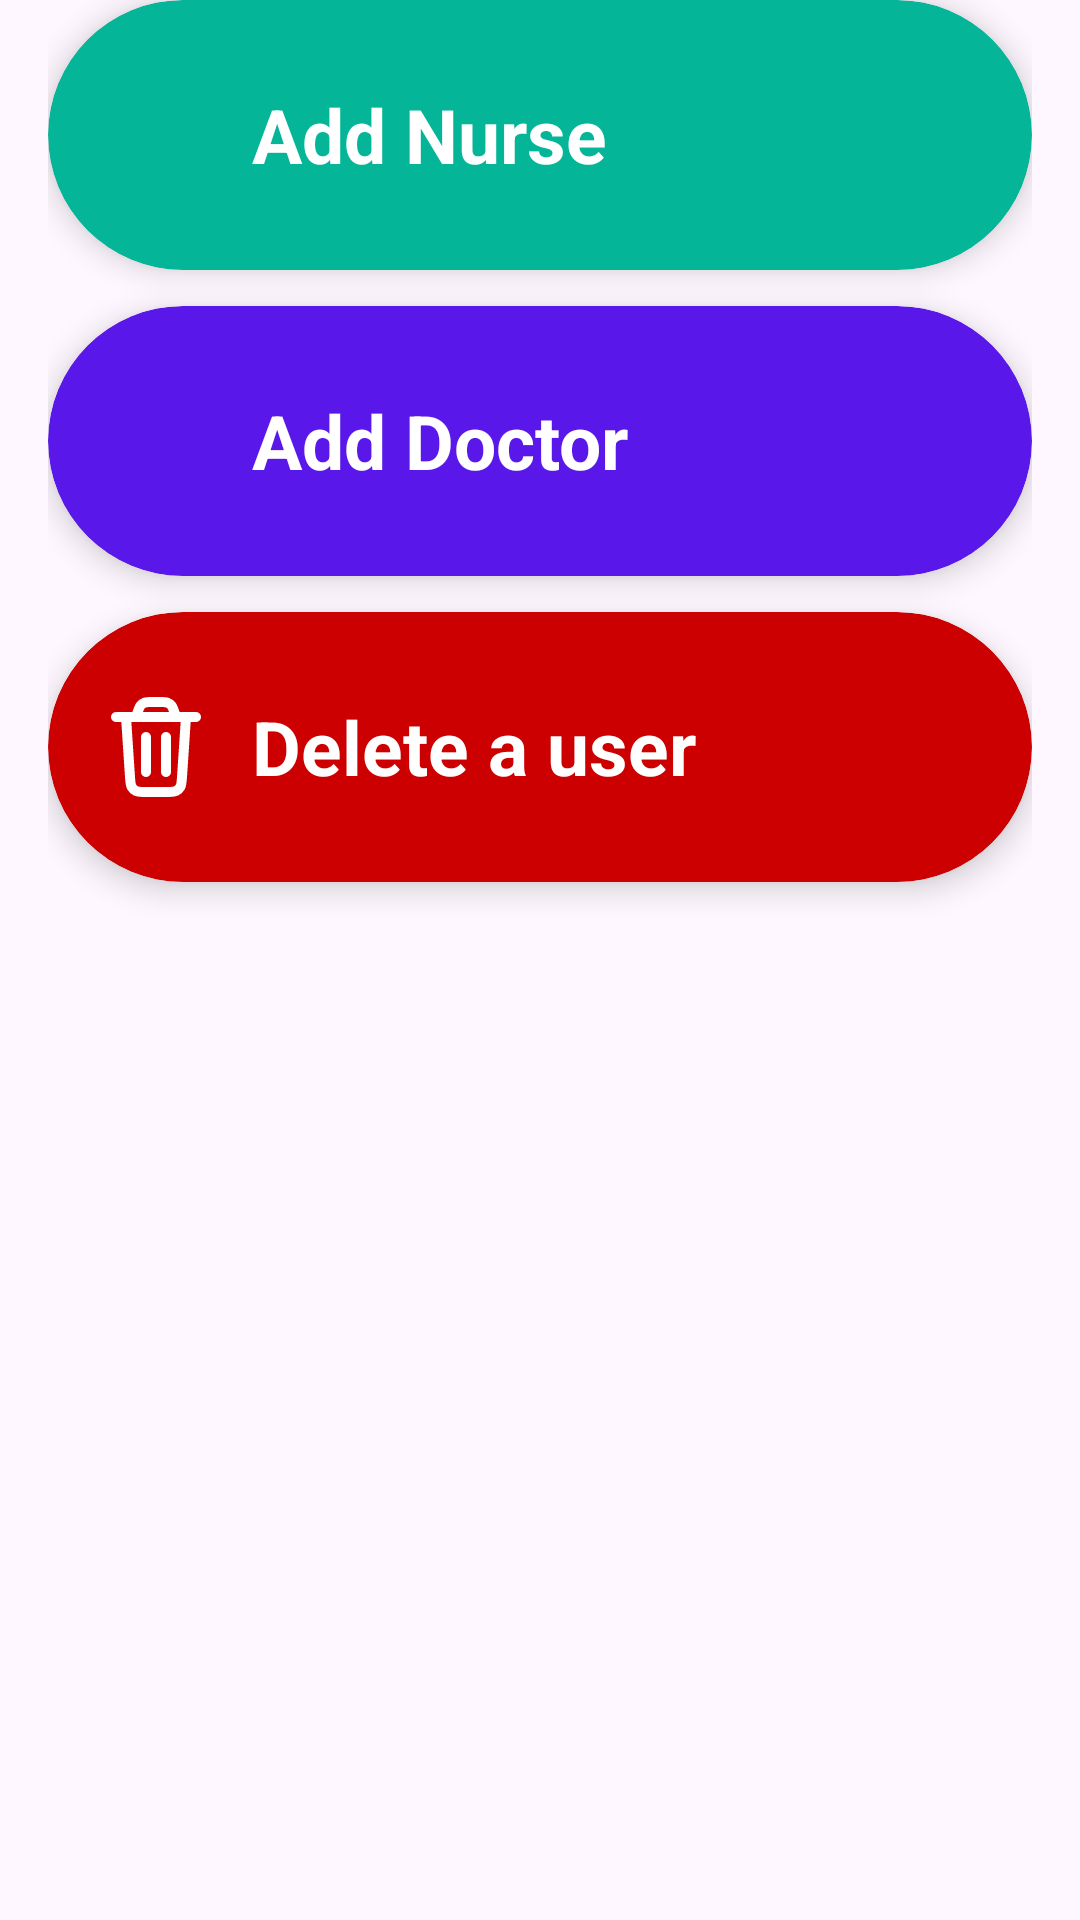

Named icons in this screenshot (1080w x 1920h) and their centers, (x=x, y=y):
trash: (x=156, y=747)
